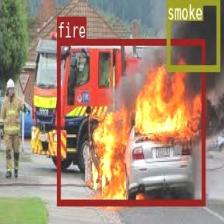fire: (57, 38, 204, 204)
smoke: (166, 0, 219, 70)
